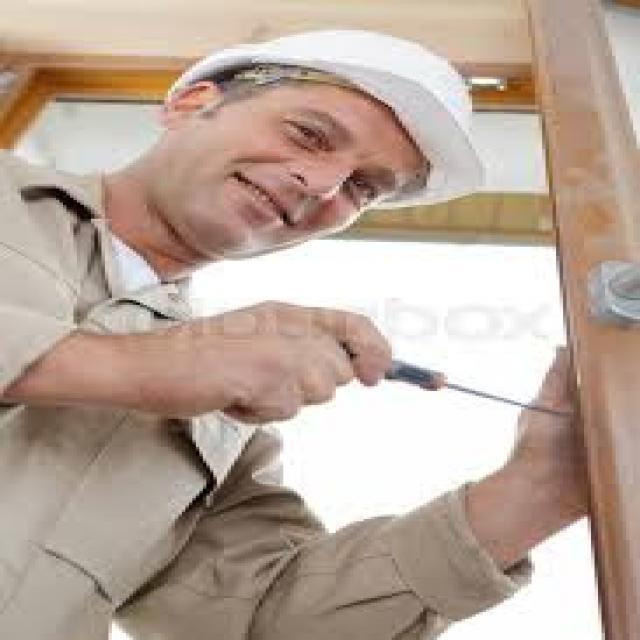screwdriver: (318, 338, 581, 434)
